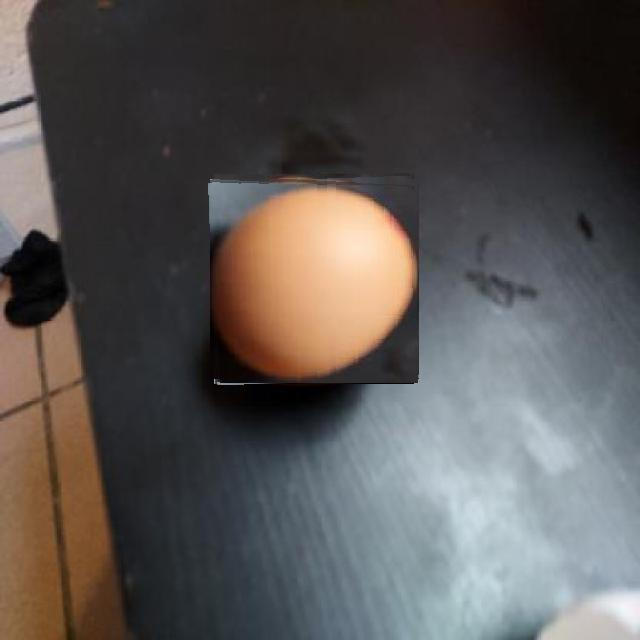biodegradable: (210, 175, 418, 383)
